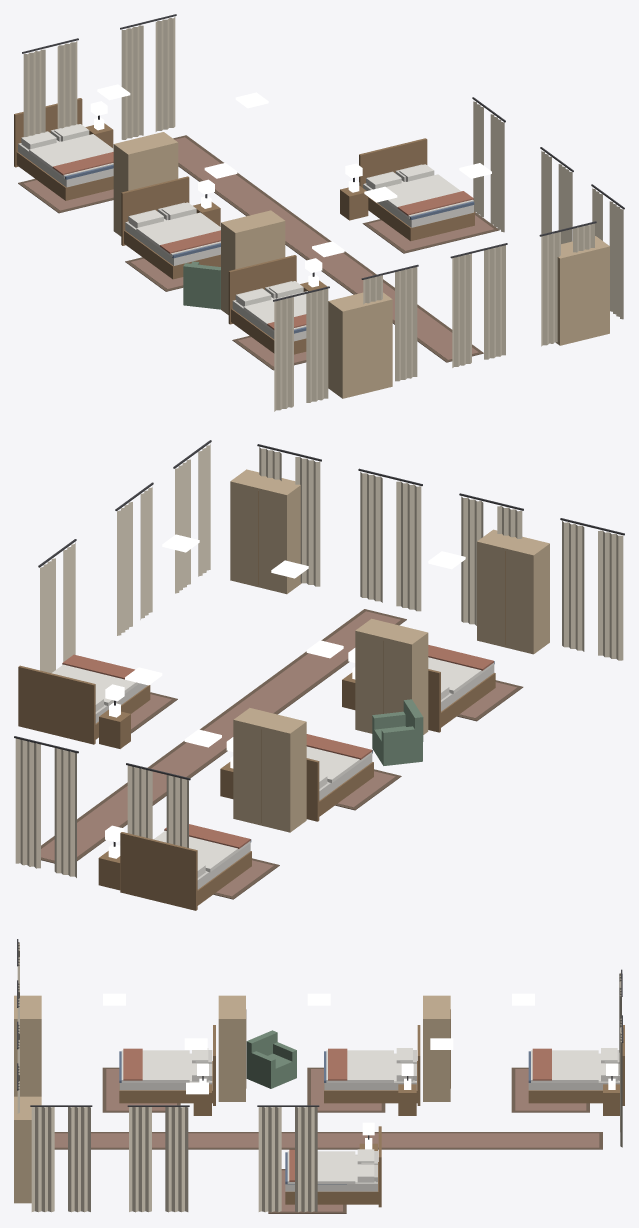
Rendered from fine-s2.glb.
The picture shows the model from 3 angles, top to bottom: view 1: azimuth 30°, elevation 25°; view 2: azimuth 150°, elevation 25°; view 3: azimuth 270°, elevation 25°; orthographic projection. The views are drawn at different scales.
Visible parts, largest first — view 1: soft-s2, dresser.007, dresser.004, bed-frame.004, bed-frame.006, dresser.005, dresser.006, bed-frame.007, bed-frame.005, lounge-chair.001, nightstand.004; view 2: soft-s2, dresser.005, dresser.007, dresser.004, dresser.006, bed-frame.005, bed-frame.004, lounge-chair.001, bed-frame.006, bed-frame.007, nightstand.004, nightstand.005; view 3: soft-s2, dresser.006, dresser.005, dresser.007, lounge-chair.001, bed-frame.006, bed-frame.004, bed-frame.007, bed-frame.005, dresser.004, nightstand.006, nightstand.005 (+1 smaller).
Boxes of the visible parts, box(x1,y1,x2,y2) form: soft-s2: box(18, 14, 624, 411); dresser.007: box(328, 292, 392, 398); dresser.004: box(555, 236, 609, 345); bed-frame.004: box(359, 138, 474, 241); bed-frame.006: box(121, 176, 220, 279); dresser.005: box(113, 132, 178, 236); dresser.006: box(221, 210, 285, 314); bed-frame.007: box(228, 255, 306, 354); bed-frame.005: box(14, 98, 113, 200); lounge-chair.001: box(183, 261, 220, 309); nightstand.004: box(340, 179, 368, 220); soft-s2: box(14, 440, 624, 899); dresser.005: box(233, 708, 306, 832); dresser.007: box(477, 529, 549, 654); dresser.004: box(230, 469, 301, 594); dresser.006: box(355, 618, 428, 734); bed-frame.005: box(120, 832, 251, 910); bed-frame.004: box(18, 665, 150, 744); lounge-chair.001: box(372, 699, 423, 765); bed-frame.006: box(306, 750, 373, 821); bed-frame.007: box(428, 661, 495, 732); nightstand.004: box(99, 702, 130, 748); nightstand.005: box(98, 844, 120, 890); soft-s2: box(17, 939, 623, 1213); dresser.006: box(218, 995, 246, 1101); dresser.005: box(423, 995, 450, 1101); dresser.007: box(14, 995, 41, 1096); lounge-chair.001: box(246, 1030, 296, 1088); bed-frame.006: box(324, 1025, 420, 1105); bed-frame.004: box(285, 1126, 381, 1207); bed-frame.007: box(119, 1025, 215, 1105); bed-frame.005: box(528, 1025, 624, 1105); dresser.004: box(14, 1096, 41, 1203); nightstand.006: box(398, 1078, 416, 1115); nightstand.005: box(603, 1078, 619, 1115).
Bounding box in the file's own units: 8.6 × 2.61 × 13.31.
